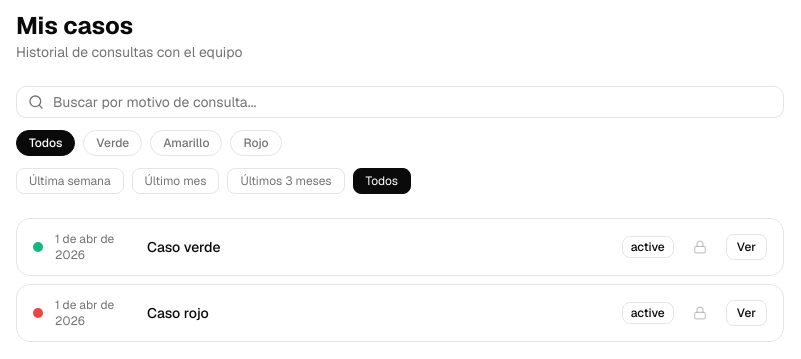
Scenario: HistoryPage › triage chip filters the case list
Check: the text "Caso verde" is shown, box [147,238,220,256]
What coordinates should you click on to do the following:
click the button "Rojo"
I would click on:
 (256, 143)
Its box is [230,130,282,156].
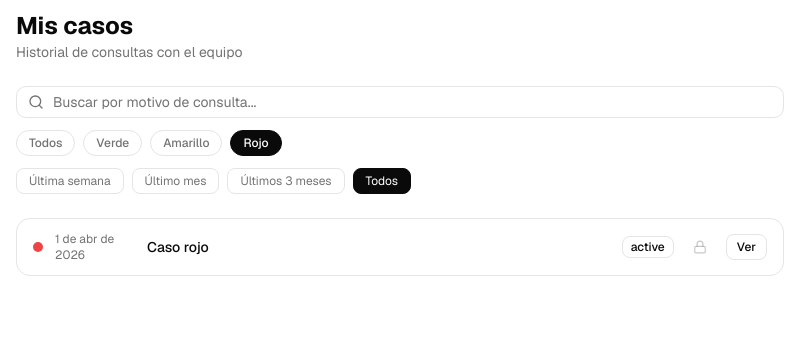
Check: the text "Caso rojo" is shown, box [147,238,209,256]
Check: the text "Caso verde" is gone
